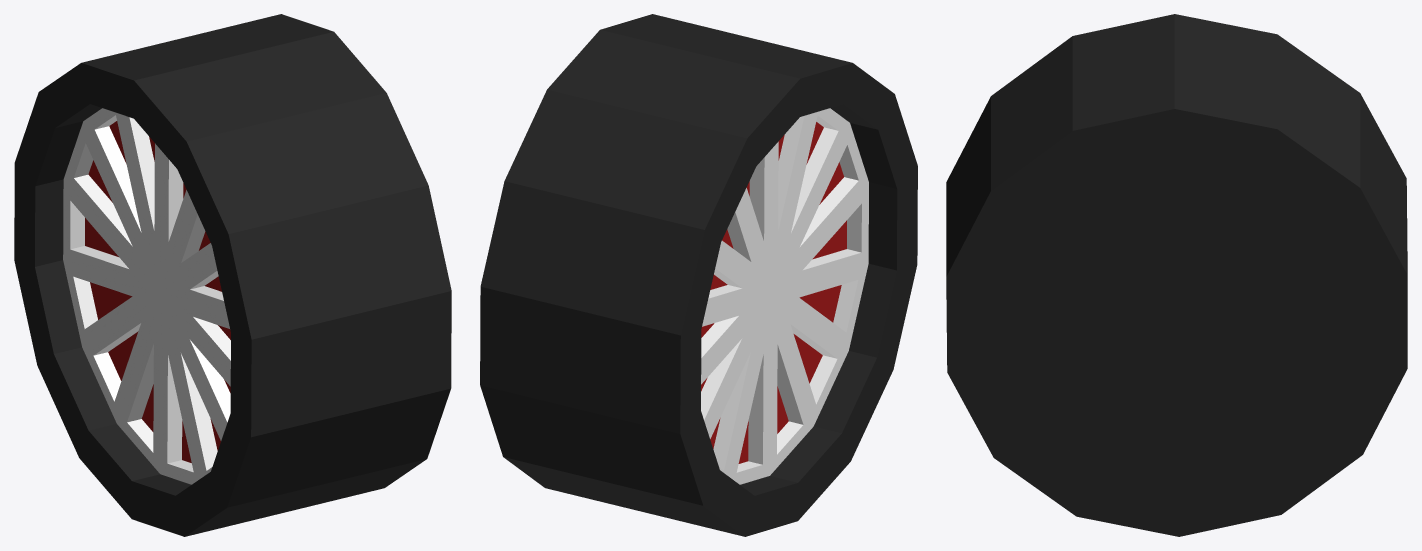
The model's file is Wheel.FBX.
3 renders of one model, left to right at view 1: azimuth 30°, elevation 25°; view 2: azimuth 150°, elevation 25°; view 3: azimuth 270°, elevation 25°, orthographic. The views are drawn at different scales.
Visible parts, largest first — view 1: Wheel; view 2: Wheel; view 3: Wheel.
Boxes of the visible parts, box(x1,y1,x2,y2) form: Wheel: box(14, 14, 451, 536); Wheel: box(480, 14, 917, 536); Wheel: box(946, 14, 1407, 536).
Size of the model in its own units: 13.48 by 28.35 by 27.7.
